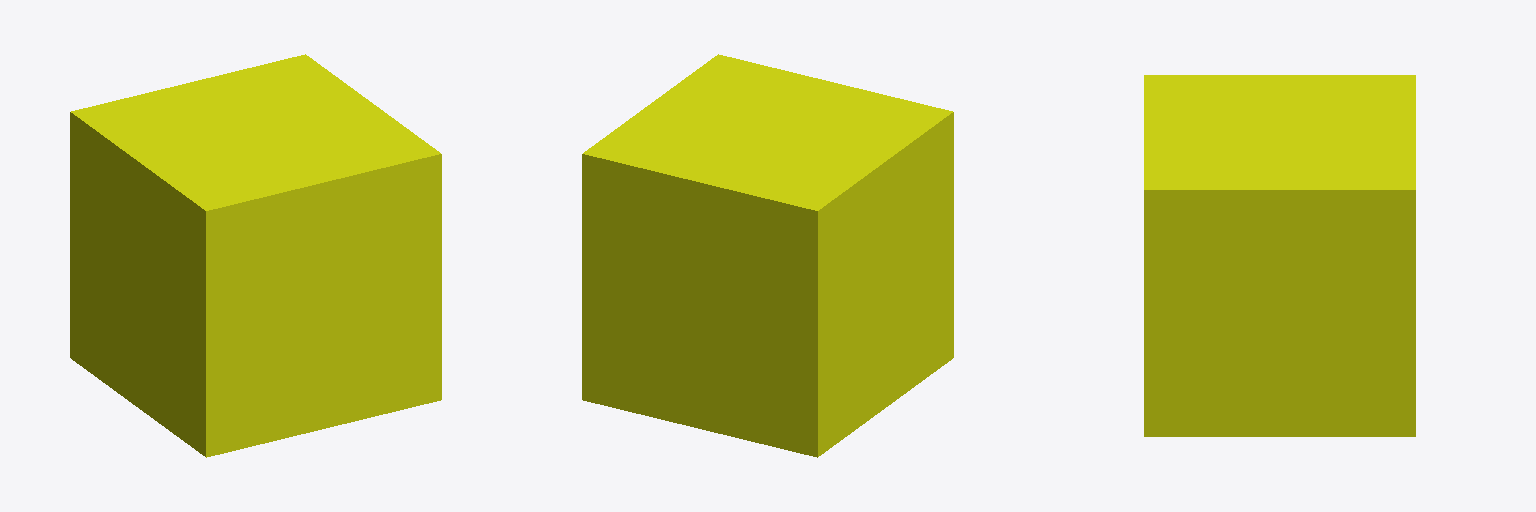
3 views of the same model, side by side, from view 1: azimuth 30°, elevation 25°; view 2: azimuth 150°, elevation 25°; view 3: azimuth 270°, elevation 25° (orthographic).
Visible parts, largest first — view 1: pCube1; view 2: pCube1; view 3: pCube1.
Boxes of the visible parts, x1=… form: pCube1: x1=70, y1=54, x2=441, y2=457; pCube1: x1=582, y1=54, x2=953, y2=457; pCube1: x1=1144, y1=75, x2=1415, y2=436.
Size of the model in its own units: 10 by 10 by 10.
1 materials, 1 textured.